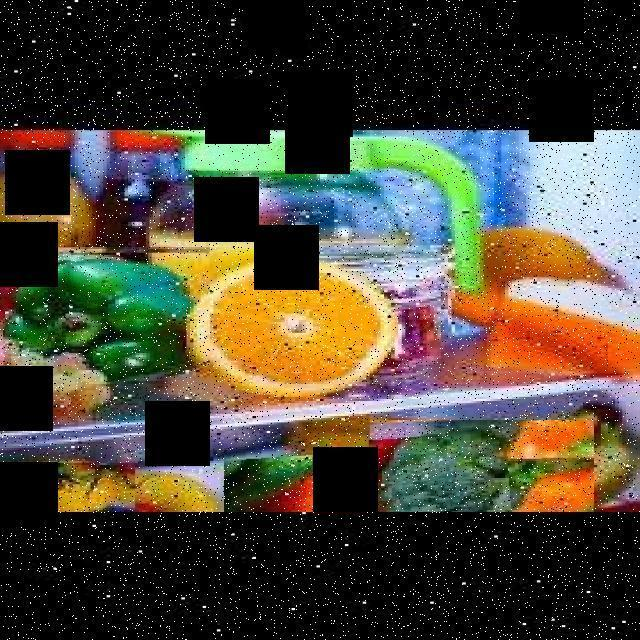bell_pepper: (3, 247, 210, 382), (224, 437, 459, 512)
broccoli: (370, 420, 594, 512)
tomato: (0, 461, 135, 512)
